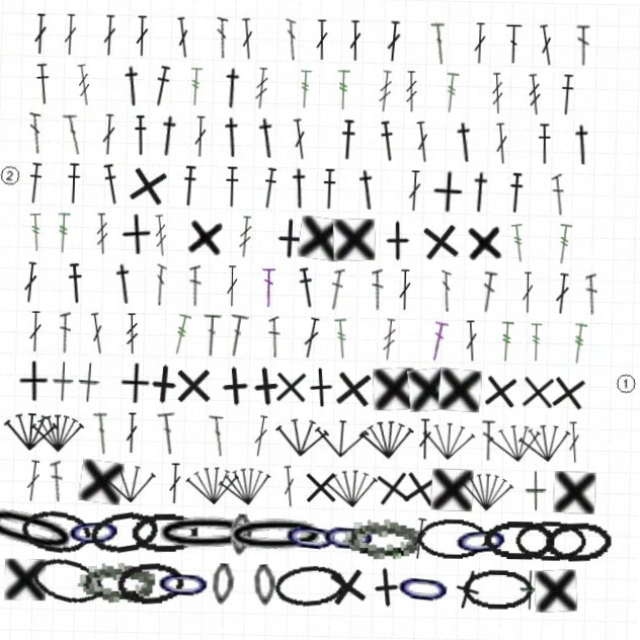chain: (0, 500, 91, 564), (230, 510, 334, 554), (38, 552, 117, 609), (160, 510, 264, 553), (95, 506, 170, 558), (28, 508, 101, 556), (280, 557, 353, 605), (87, 559, 164, 602), (124, 558, 195, 604), (348, 511, 425, 553), (546, 510, 616, 554), (138, 510, 207, 553), (421, 511, 492, 552), (467, 560, 538, 601), (487, 511, 557, 552), (518, 511, 588, 552), (287, 509, 347, 555), (455, 509, 515, 555), (399, 558, 459, 603), (73, 509, 132, 554), (325, 510, 383, 553), (163, 560, 221, 602), (260, 560, 284, 602), (236, 511, 259, 553), (219, 560, 242, 602)
double: (62, 118, 85, 161), (228, 314, 251, 357), (162, 412, 185, 455), (302, 315, 323, 357), (428, 315, 448, 357), (529, 21, 548, 63), (409, 119, 428, 161), (92, 315, 111, 357), (213, 413, 232, 455), (205, 315, 224, 356), (171, 21, 189, 63), (423, 21, 441, 63), (288, 119, 306, 161), (478, 266, 496, 308), (98, 413, 116, 455), (256, 413, 274, 455), (32, 462, 50, 504), (415, 511, 433, 553), (235, 21, 252, 63), (488, 119, 505, 161), (26, 266, 43, 308), (551, 266, 568, 308), (498, 21, 515, 62), (546, 168, 562, 210), (329, 266, 345, 308), (286, 462, 302, 504), (380, 21, 396, 62), (463, 315, 479, 356), (61, 21, 76, 62), (568, 21, 583, 62), (101, 119, 116, 160), (404, 168, 419, 209), (567, 413, 582, 454), (57, 462, 72, 503), (32, 21, 46, 62), (100, 21, 114, 62), (132, 21, 146, 62), (310, 21, 324, 62), (343, 21, 357, 62), (466, 21, 480, 62), (192, 119, 206, 160), (397, 266, 411, 307), (33, 315, 47, 356), (420, 413, 434, 454), (483, 413, 497, 454), (174, 462, 188, 503), (156, 266, 169, 307), (227, 266, 240, 307), (263, 266, 276, 307), (519, 266, 532, 307), (582, 266, 595, 307), (270, 315, 283, 356), (131, 413, 144, 454), (212, 21, 224, 62), (281, 21, 293, 62), (30, 119, 42, 160), (191, 266, 203, 307), (371, 266, 383, 307), (64, 315, 75, 356), (440, 266, 450, 307)
fan: (516, 409, 576, 458), (221, 458, 281, 507), (487, 410, 546, 458), (361, 411, 418, 457), (277, 411, 334, 456), (108, 460, 165, 505), (190, 460, 247, 505), (327, 460, 384, 505), (10, 412, 66, 455), (317, 412, 373, 455), (423, 412, 478, 455), (37, 413, 92, 455), (462, 462, 517, 504)
half_double: (153, 118, 182, 161), (251, 118, 279, 161), (351, 167, 379, 210), (113, 265, 141, 308), (447, 118, 474, 161), (463, 167, 490, 210), (216, 70, 243, 112), (118, 70, 144, 112), (218, 119, 243, 160), (564, 119, 589, 160), (286, 168, 310, 209), (149, 69, 171, 112), (101, 167, 123, 210), (296, 265, 318, 308), (374, 119, 394, 161), (33, 70, 52, 112), (27, 168, 46, 210), (259, 168, 278, 210), (69, 266, 88, 308), (551, 70, 569, 111), (180, 168, 198, 209), (336, 119, 353, 160), (503, 168, 520, 209), (132, 119, 148, 160), (531, 119, 547, 160), (67, 168, 83, 209), (223, 168, 239, 209), (320, 168, 335, 209)
noise: (0, 170, 23, 193), (613, 363, 635, 385)
single: (447, 556, 497, 606), (124, 165, 172, 213), (373, 459, 420, 506), (400, 459, 447, 506), (330, 557, 377, 604), (415, 215, 461, 261), (297, 215, 342, 260), (246, 362, 291, 407), (408, 362, 453, 407), (478, 362, 523, 407), (545, 362, 590, 407), (86, 460, 131, 505), (369, 558, 414, 603), (216, 363, 260, 407), (333, 363, 377, 407), (146, 363, 189, 406), (302, 363, 345, 406), (374, 363, 417, 406), (439, 363, 482, 406), (516, 363, 559, 406), (538, 559, 581, 602), (186, 216, 227, 260), (268, 217, 310, 259), (332, 217, 374, 259), (375, 217, 417, 259), (176, 364, 218, 406), (304, 462, 346, 504), (434, 462, 476, 504), (555, 462, 597, 504), (462, 216, 502, 259), (273, 364, 314, 405), (15, 560, 56, 601), (121, 216, 154, 259), (428, 168, 460, 210), (23, 364, 55, 405), (124, 364, 155, 405), (83, 364, 106, 406), (58, 364, 80, 405), (527, 462, 549, 503), (524, 560, 545, 601)
treble: (173, 314, 195, 357), (73, 70, 93, 112), (506, 217, 525, 259), (551, 217, 570, 259), (437, 70, 455, 112), (519, 70, 537, 112), (153, 217, 171, 259), (334, 315, 352, 357), (568, 315, 586, 357), (372, 70, 389, 112), (381, 315, 398, 357), (250, 70, 267, 111), (237, 217, 254, 258), (31, 217, 47, 258), (96, 217, 112, 258), (186, 70, 201, 111), (294, 70, 309, 111), (399, 70, 414, 111), (484, 70, 499, 111), (58, 217, 73, 258), (128, 315, 143, 356), (498, 315, 513, 356), (332, 70, 346, 111), (528, 315, 542, 356)
